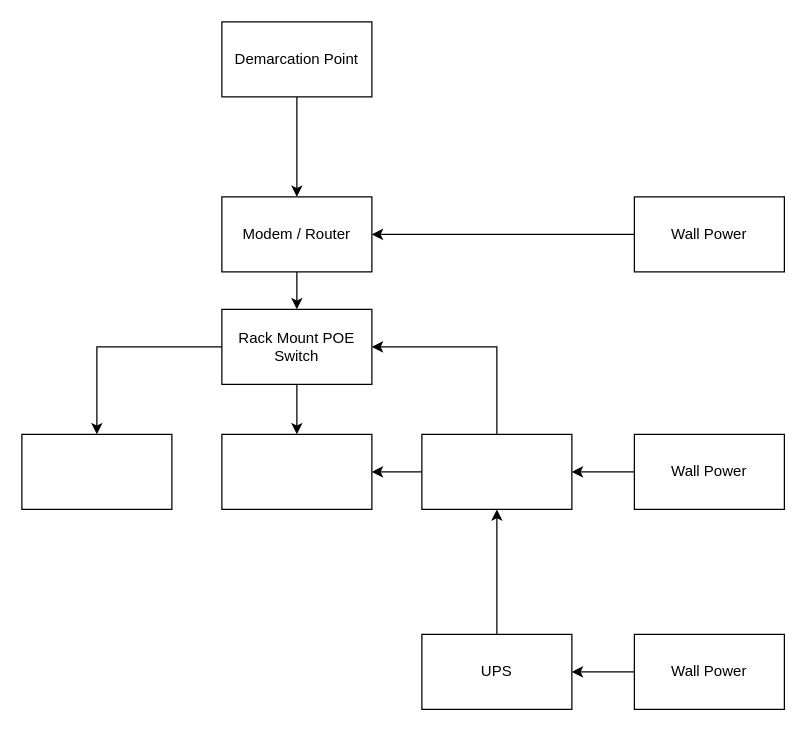
The diagram is 806 pixels wide and 731 high, and some of its shapes have lost their labels. Each missing label, with the centre of its shape:
"4u Server Chassis" belongs at (296,471).
"NAS" belongs at (96,471).
"PDU" belongs at (496,471).
